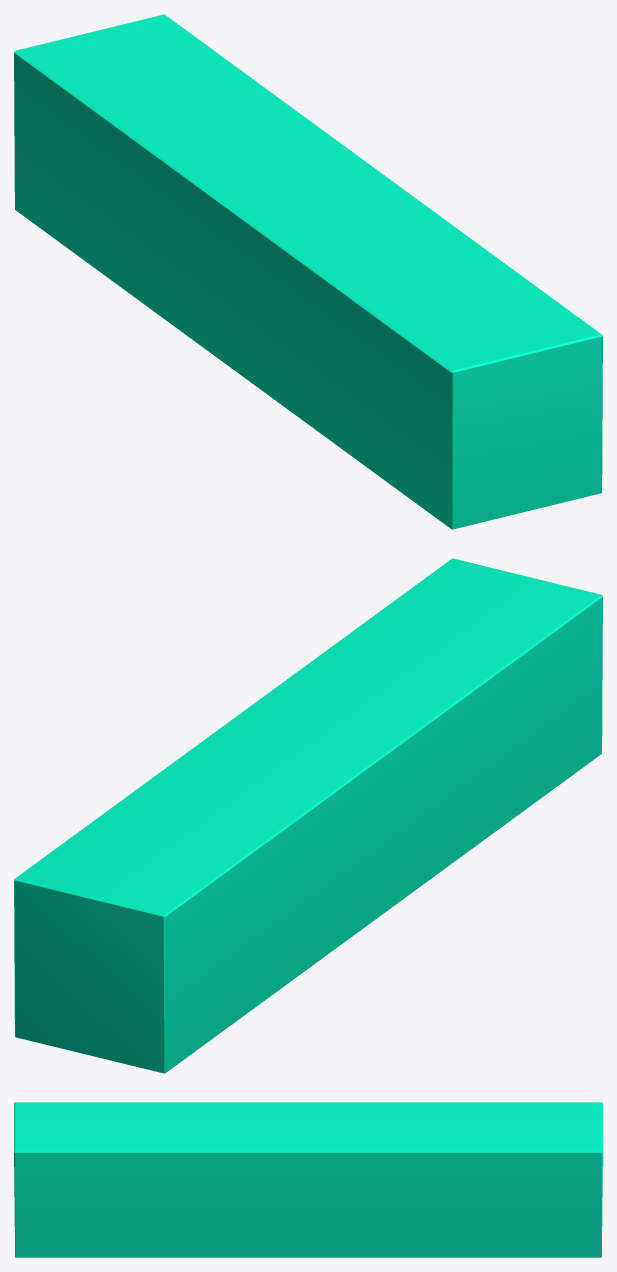
The model's file is greenBlock_edit.fbx.
The picture shows the model from 3 angles, top to bottom: view 1: azimuth 30°, elevation 25°; view 2: azimuth 150°, elevation 25°; view 3: azimuth 270°, elevation 25°; orthographic projection. The views are drawn at different scales.
Parts seen in each view (by area): view 1: Green_Block; view 2: Green_Block; view 3: Green_Block.
Boxes of the visible parts, x1=… form: Green_Block: x1=14, y1=14, x2=602, y2=529; Green_Block: x1=14, y1=558, x2=602, y2=1073; Green_Block: x1=14, y1=1102, x2=602, y2=1257.
Size of the model in its own units: 100 by 100 by 500.
